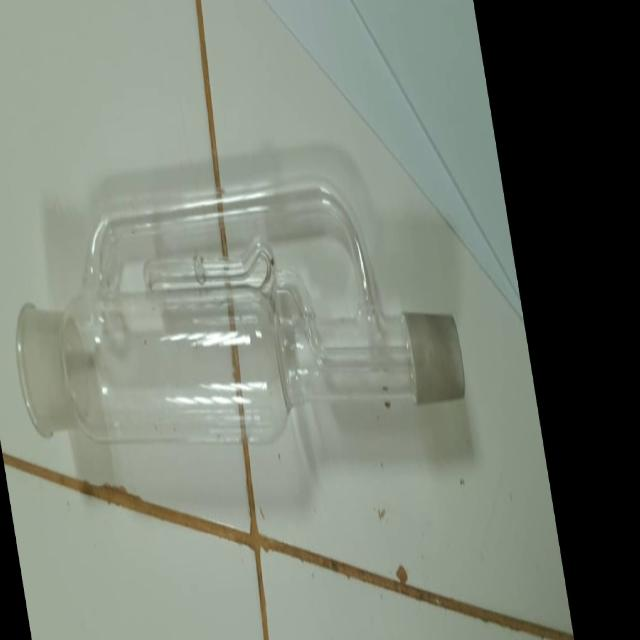Soxhlet: (0, 164, 477, 478)
